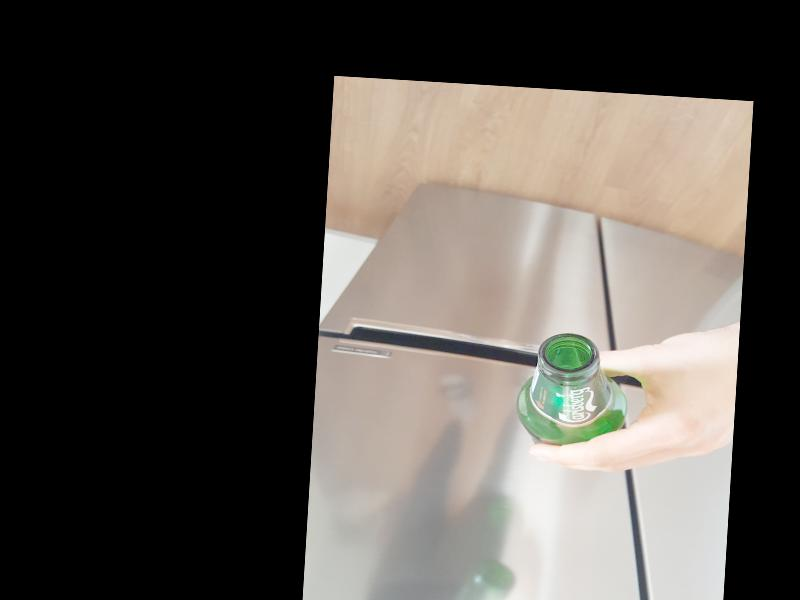Beer: (515, 330, 628, 449)
